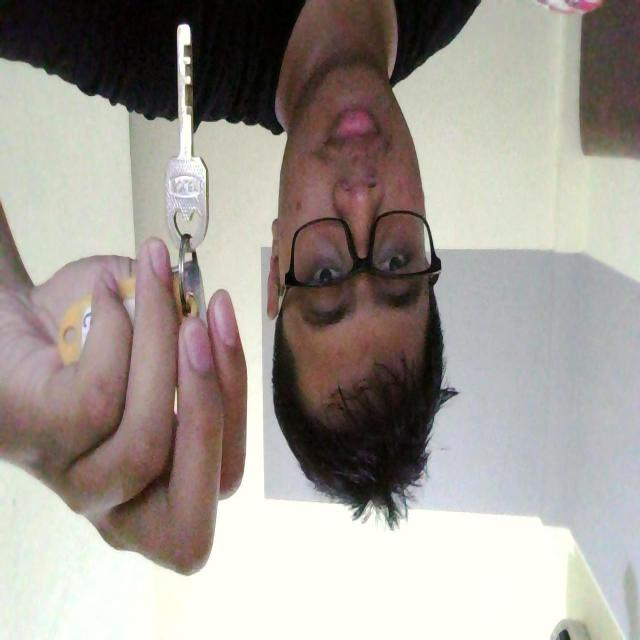kunci_pagar: (160, 18, 209, 270)
